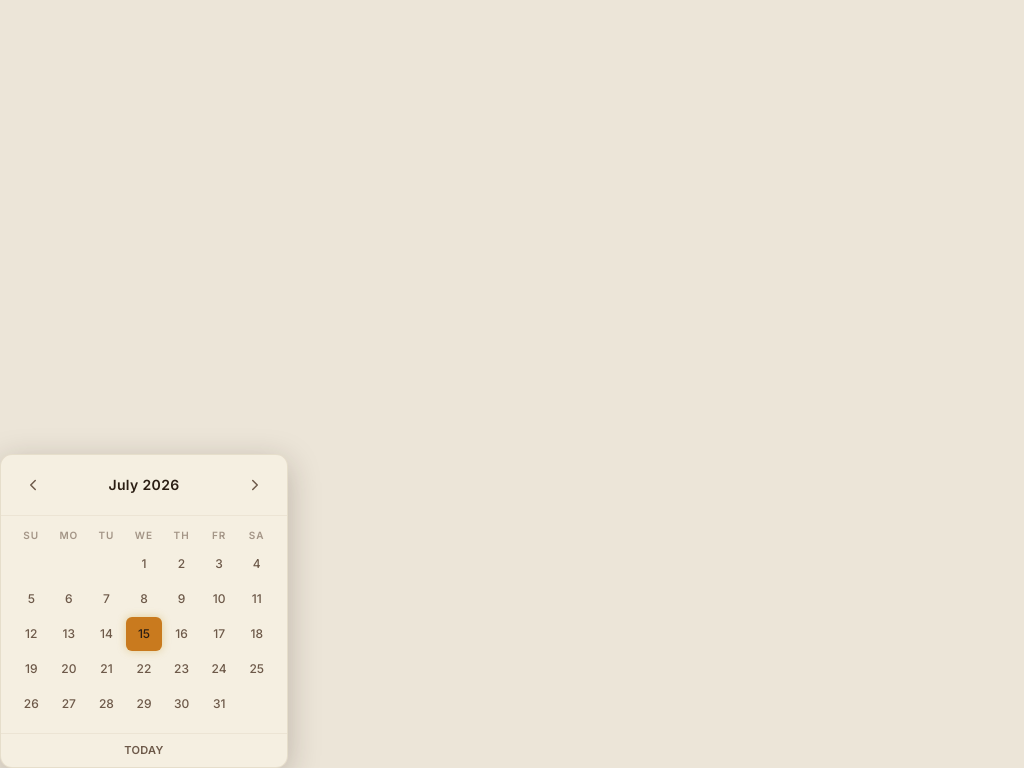
it: CalendarPopup › navigates to the next month (August) when the right chevron is clicked (EN)
(page scrolled)
Click the button named "Next month" at (255, 485), box [235, 465, 275, 505]
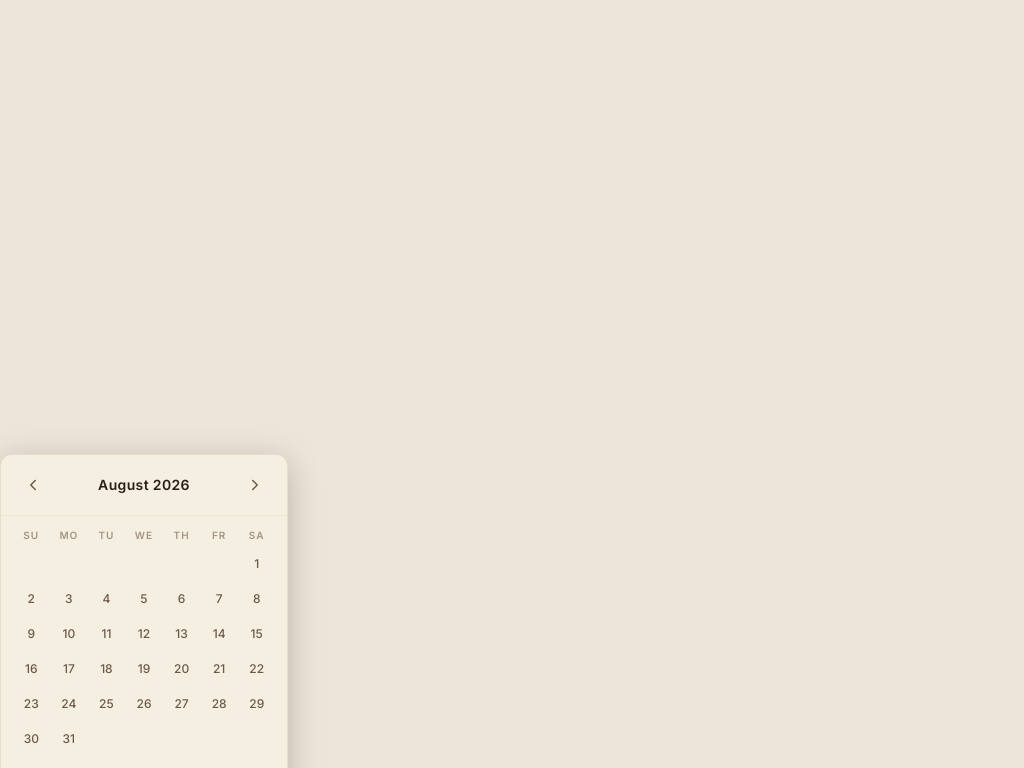
Expected: the text "August 2026" is shown, [98, 475, 190, 495]
